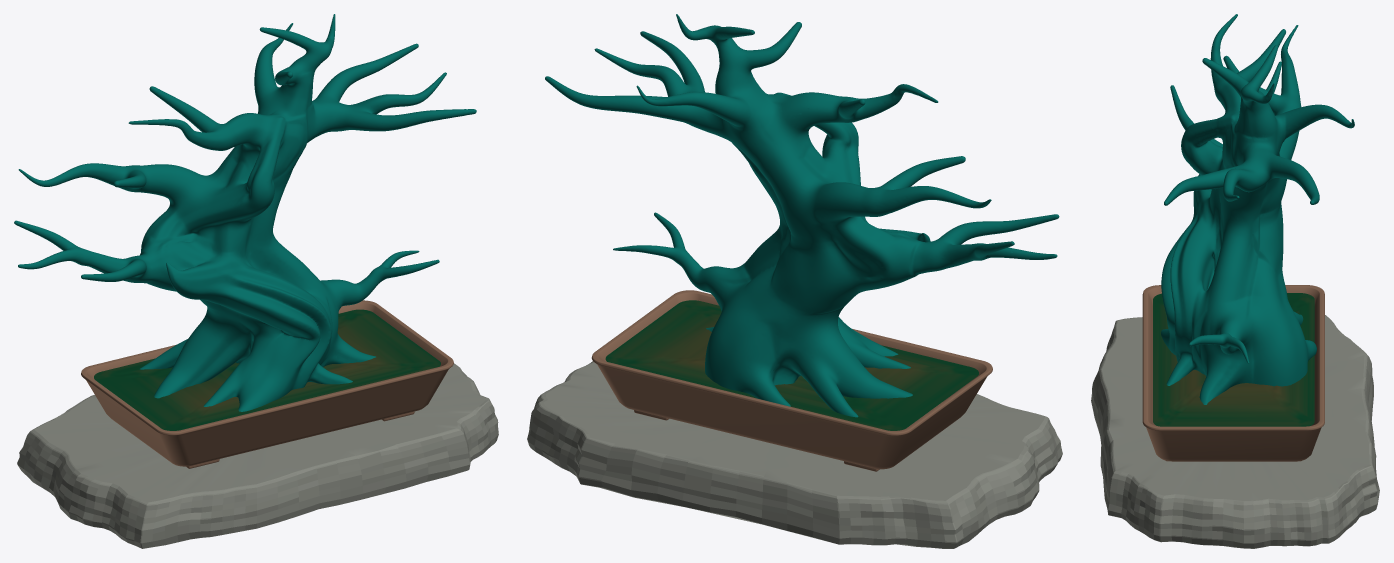
The model's file is hero-v20.glb.
The picture shows the model from 3 angles, left to right: view 1: azimuth 30°, elevation 25°; view 2: azimuth 150°, elevation 25°; view 3: azimuth 270°, elevation 25°; orthographic projection. The views are drawn at different scales.
Parts seen in each view (by area): view 1: Continuous aged trunk and primary branches, Low split natural bedding stone, Shallow unglazed pot, Continuous planted soil; view 2: Continuous aged trunk and primary branches, Low split natural bedding stone, Shallow unglazed pot, Continuous planted soil; view 3: Continuous aged trunk and primary branches, Low split natural bedding stone, Continuous planted soil, Shallow unglazed pot.
Part boxes in pixels (left/top/right/bottom): Continuous aged trunk and primary branches: left=14, top=14, right=476, bottom=411; Low split natural bedding stone: left=17, top=363, right=498, bottom=548; Shallow unglazed pot: left=81, top=300, right=453, bottom=466; Continuous planted soil: left=94, top=309, right=440, bottom=430; Continuous aged trunk and primary branches: left=545, top=14, right=1059, bottom=417; Low split natural bedding stone: left=527, top=361, right=1062, bottom=548; Shallow unglazed pot: left=591, top=290, right=992, bottom=469; Continuous planted soil: left=605, top=300, right=978, bottom=430; Continuous aged trunk and primary branches: left=1161, top=14, right=1354, bottom=404; Low split natural bedding stone: left=1091, top=315, right=1379, bottom=548; Continuous planted soil: left=1153, top=293, right=1314, bottom=426; Shallow unglazed pot: left=1142, top=285, right=1324, bottom=461.
Bounding box in the file's own units: 2.48 × 2.15 × 1.36.
